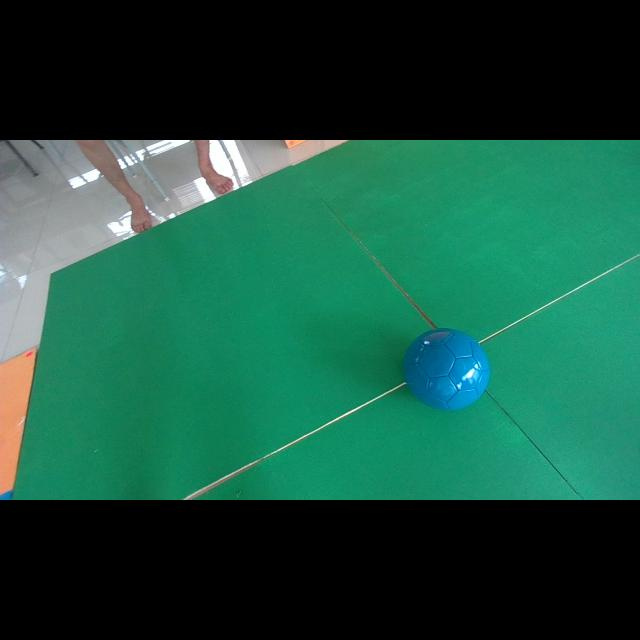B: (405, 329, 490, 409)
